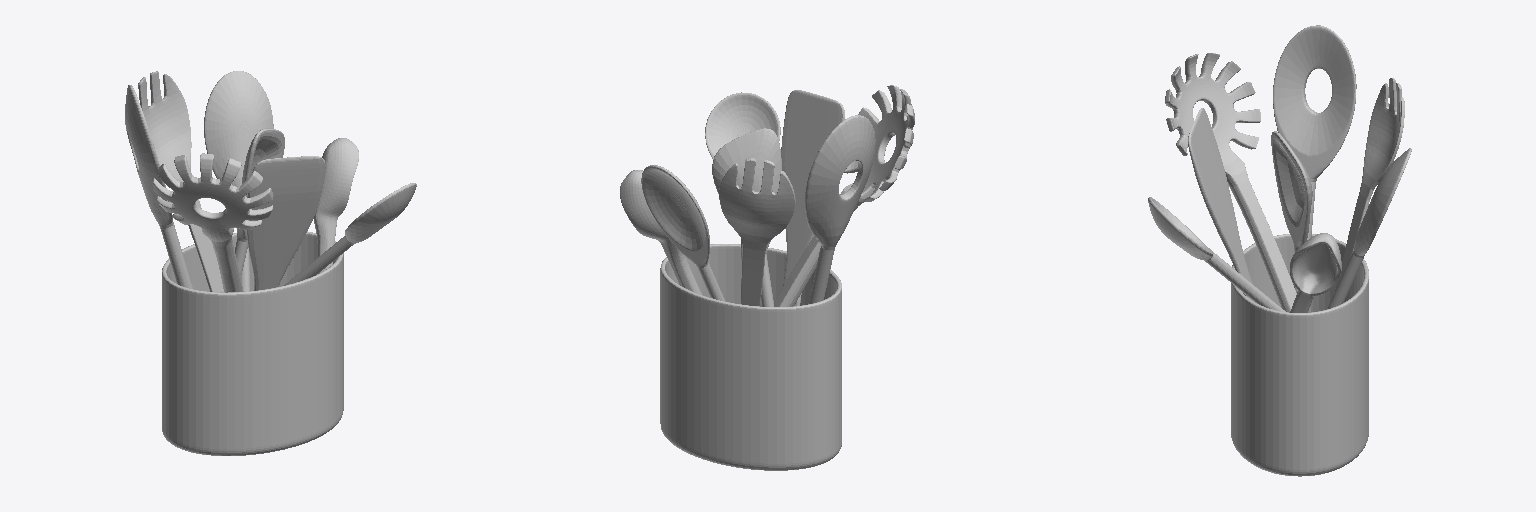
The model's file is attrezzi_cucina.obj.
3 views of the same model, side by side, from view 1: azimuth 30°, elevation 25°; view 2: azimuth 150°, elevation 25°; view 3: azimuth 270°, elevation 25° (orthographic).
Parts seen in each view (by area): view 1: UtensilsJar001.001, UtensilsJar001_utensil04.001, UtensilsJar001_utensil06.001, UtensilsJar001_utensil01.001, UtensilsJar001_utensil02.001, UtensilsJar001_utensil03.001, UtensilsJar001_utensil08.001, UtensilsJar001_utensil07.001, UtensilsJar001_utensil05.001; view 2: UtensilsJar001.001, UtensilsJar001_utensil03.001, UtensilsJar001_utensil02.001, UtensilsJar001_utensil06.001, UtensilsJar001_utensil04.001, UtensilsJar001_utensil01.001, UtensilsJar001_utensil05.001, UtensilsJar001_utensil07.001, UtensilsJar001_utensil08.001; view 3: UtensilsJar001.001, UtensilsJar001_utensil03.001, UtensilsJar001_utensil04.001, UtensilsJar001_utensil06.001, UtensilsJar001_utensil02.001, UtensilsJar001_utensil05.001, UtensilsJar001_utensil08.001, UtensilsJar001_utensil01.001, UtensilsJar001_utensil07.001.
Part boxes in pixels (x1,y1,x2,y2): UtensilsJar001.001: (162,231,343,455); UtensilsJar001_utensil04.001: (153,153,273,292); UtensilsJar001_utensil06.001: (246,156,325,290); UtensilsJar001_utensil01.001: (204,71,273,291); UtensilsJar001_utensil02.001: (136,71,223,291); UtensilsJar001_utensil03.001: (125,85,192,288); UtensilsJar001_utensil08.001: (314,138,358,273); UtensilsJar001_utensil07.001: (284,183,416,285); UtensilsJar001_utensil05.001: (235,129,284,275); UtensilsJar001.001: (660,244,841,470); UtensilsJar001_utensil03.001: (805,115,875,303); UtensilsJar001_utensil02.001: (719,158,795,305); UtensilsJar001_utensil06.001: (781,90,844,305); UtensilsJar001_utensil04.001: (774,85,914,306); UtensilsJar001_utensil01.001: (641,165,725,301); UtensilsJar001_utensil05.001: (712,128,781,306); UtensilsJar001_utensil07.001: (705,92,780,259); UtensilsJar001_utensil08.001: (620,170,701,294); UtensilsJar001.001: (1231,234,1368,476); UtensilsJar001_utensil03.001: (1273,25,1356,292); UtensilsJar001_utensil04.001: (1165,53,1296,312); UtensilsJar001_utensil06.001: (1188,108,1252,300); UtensilsJar001_utensil02.001: (1334,78,1404,292); UtensilsJar001_utensil05.001: (1271,131,1312,312); UtensilsJar001_utensil08.001: (1290,233,1341,312); UtensilsJar001_utensil01.001: (1328,148,1411,308); UtensilsJar001_utensil07.001: (1148,197,1285,311).
Size of the model in its own units: 0.2309 by 0.3301 by 0.22.